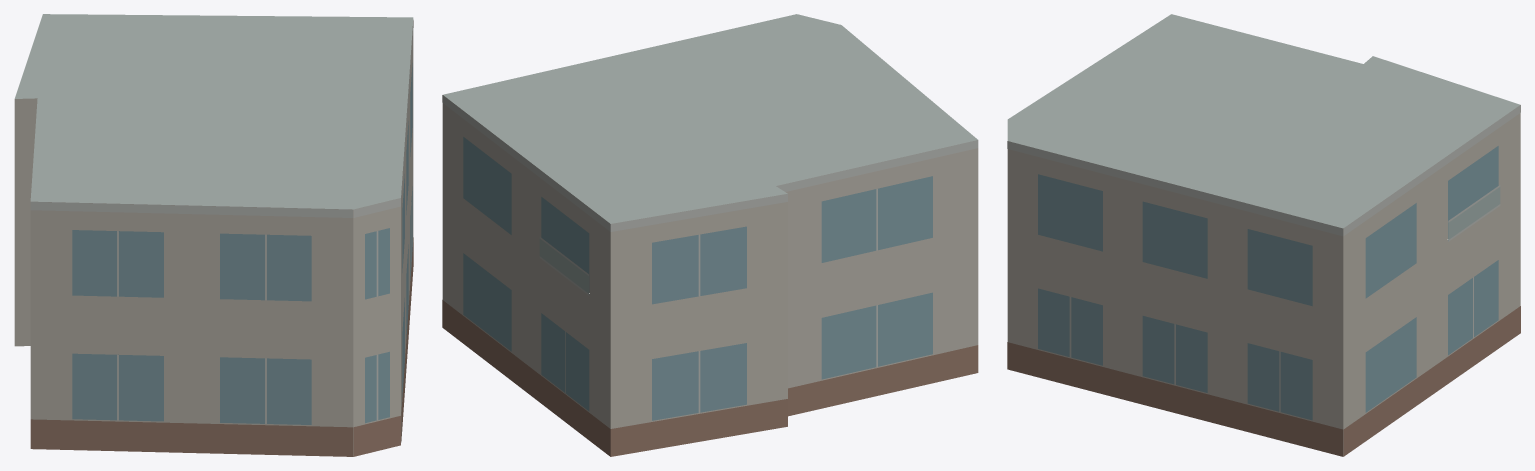
Rendered from survey-upis-32476356.glb.
3 renders of one model, left to right at view 1: azimuth 30°, elevation 25°; view 2: azimuth 150°, elevation 25°; view 3: azimuth 270°, elevation 25°, orthographic. The views are drawn at different scales.
Visible parts, largest first — view 1: survey-upis-32476356.tmp; view 2: survey-upis-32476356.tmp; view 3: survey-upis-32476356.tmp.
Boxes of the visible parts, bbox=[...] form: survey-upis-32476356.tmp: bbox=[14, 14, 413, 456]; survey-upis-32476356.tmp: bbox=[442, 14, 978, 456]; survey-upis-32476356.tmp: bbox=[1007, 14, 1520, 456].
Size of the model in its own units: 14.1 by 7 by 14.27.
